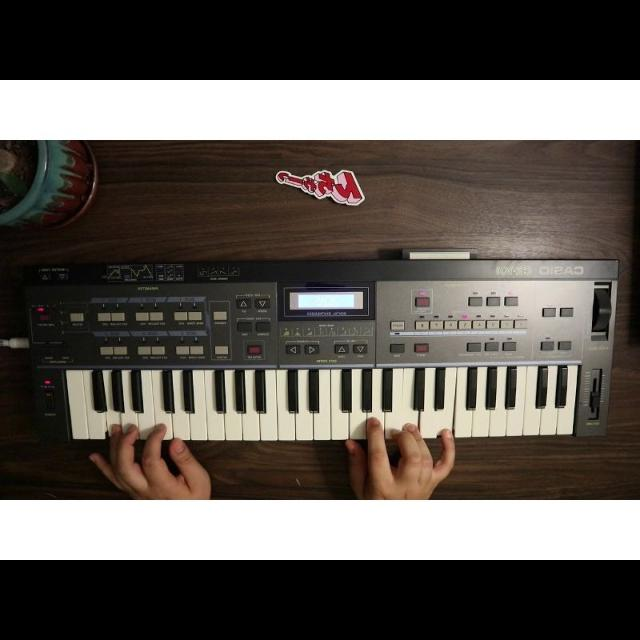Electronic-Keyboard: (22, 250, 618, 438)
